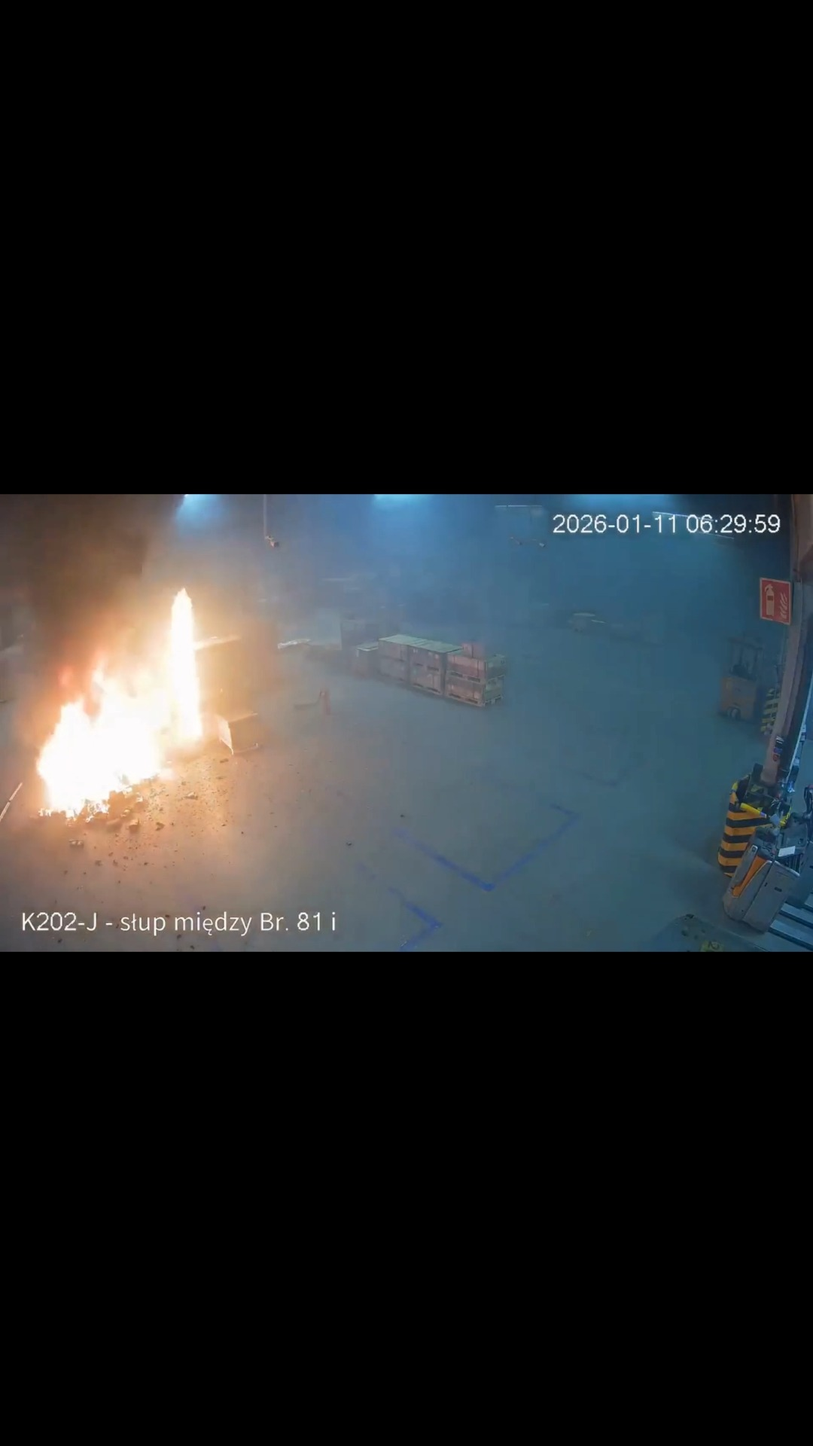fire: (35, 594, 237, 837)
